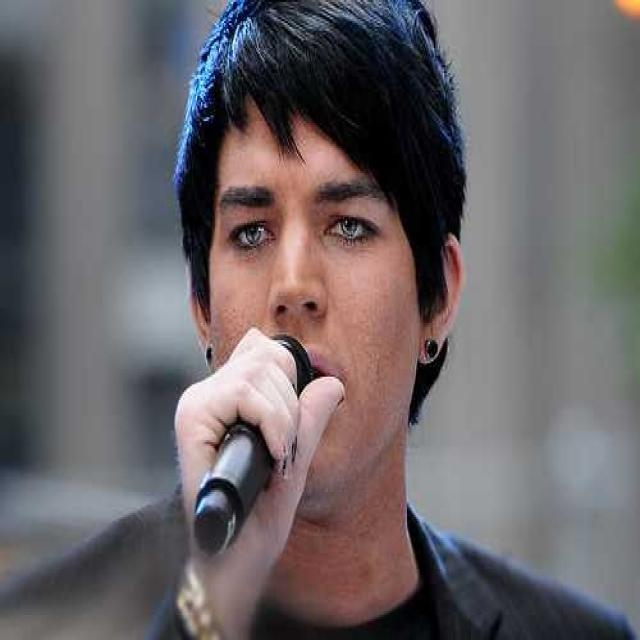microphone: (193, 332, 319, 559)
